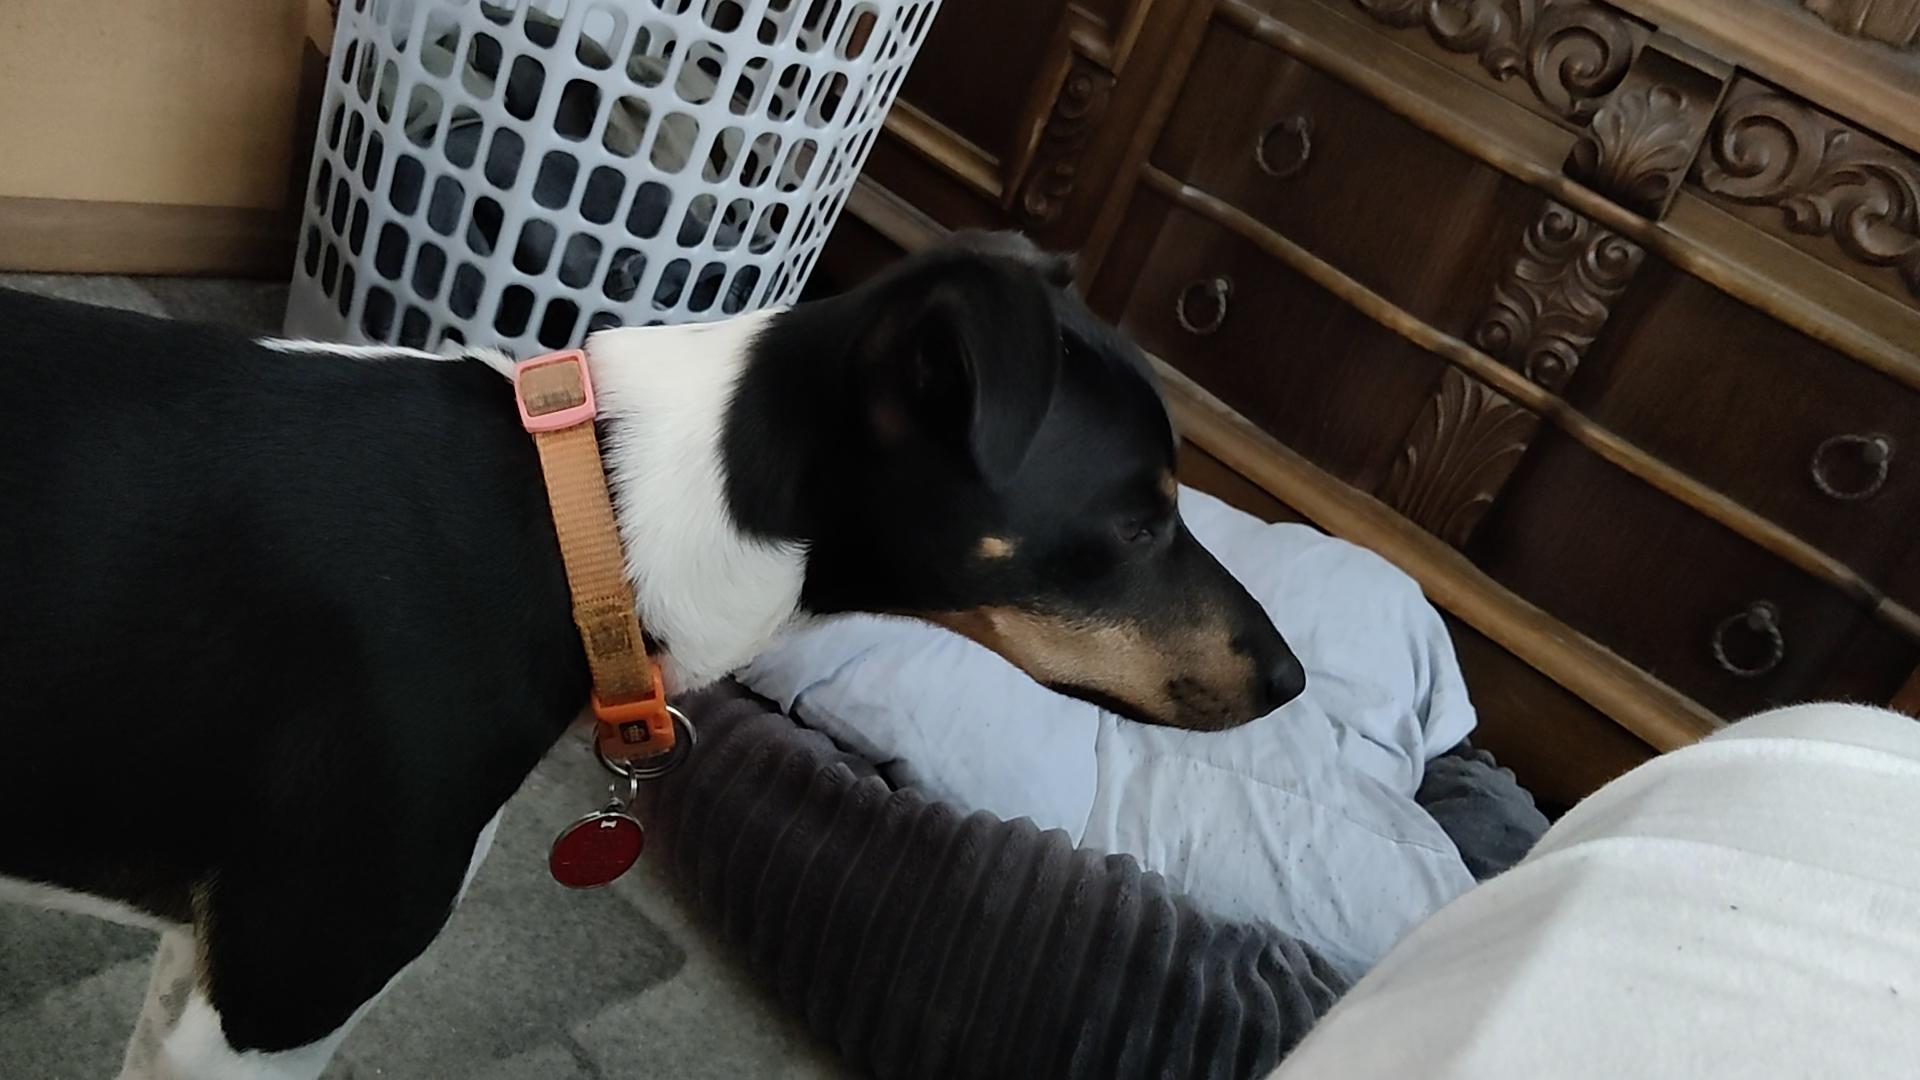Dog: (0, 193, 1317, 1079)
